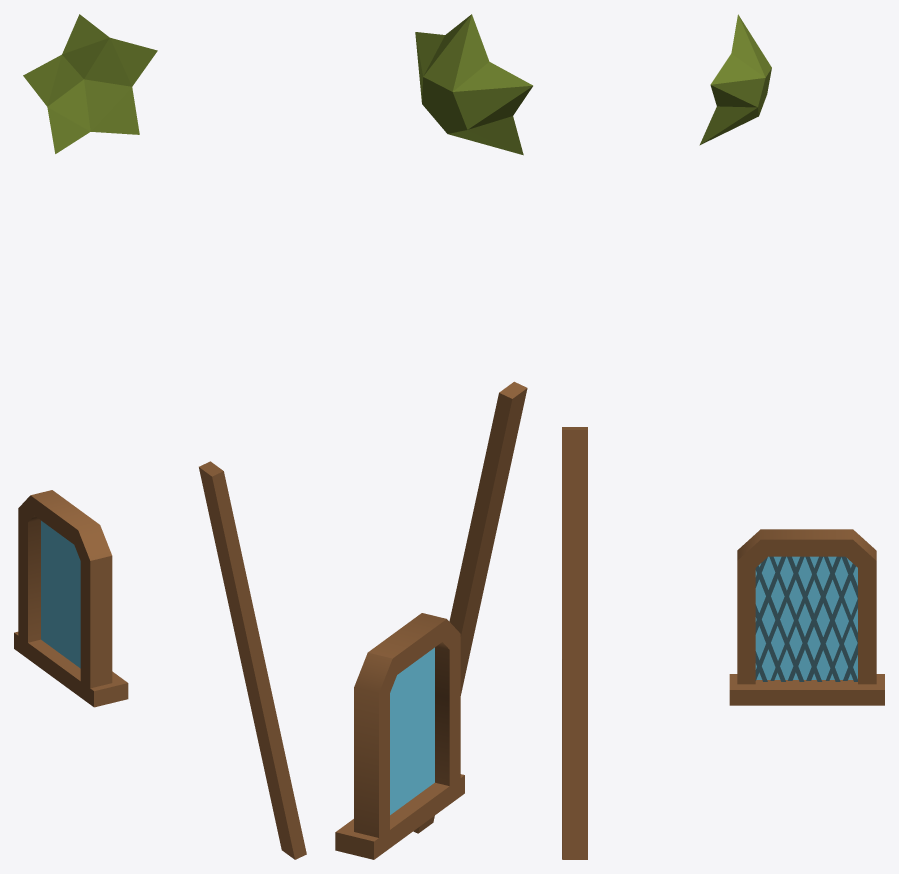
3 renders of one model, left to right at view 1: azimuth 30°, elevation 25°; view 2: azimuth 150°, elevation 25°; view 3: azimuth 270°, elevation 25°, orthographic. The views are drawn at different scales.
Visible parts, largest first — view 1: Plane416_brown_0, Box15967_green2_0, Plane545_brown_0, Plane417_mirror_0, Box15701_brown_0; view 2: Plane416_brown_0, Box15967_green2_0, Plane545_brown_0, Plane417_mirror_0, Box15701_brown_0; view 3: Plane545_brown_0, Plane416_brown_0, Plane417_mirror_0, Plane418_metal_0, Box15967_green2_0, Box15701_brown_0.
Boxes of the visible parts, x1,y1,x2,y2 form: Plane416_brown_0: (18, 490, 112, 688); Box15967_green2_0: (23, 14, 157, 153); Plane545_brown_0: (199, 461, 306, 859); Plane417_mirror_0: (41, 520, 80, 668); Box15701_brown_0: (14, 631, 128, 707); Plane416_brown_0: (354, 613, 460, 837); Box15967_green2_0: (415, 14, 532, 155); Plane545_brown_0: (413, 381, 527, 833); Plane417_mirror_0: (390, 647, 434, 814); Box15701_brown_0: (335, 774, 464, 859); Plane545_brown_0: (562, 427, 587, 859); Plane416_brown_0: (737, 529, 876, 684); Plane417_mirror_0: (755, 556, 857, 679); Plane418_metal_0: (755, 556, 857, 681); Box15967_green2_0: (699, 14, 771, 145); Box15701_brown_0: (729, 674, 884, 705).
Bounding box in the file's own units: 175 × 705 × 263.
